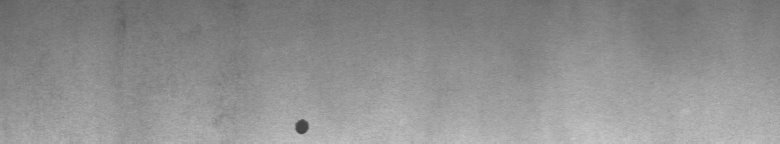fi: (288, 112, 316, 136)
